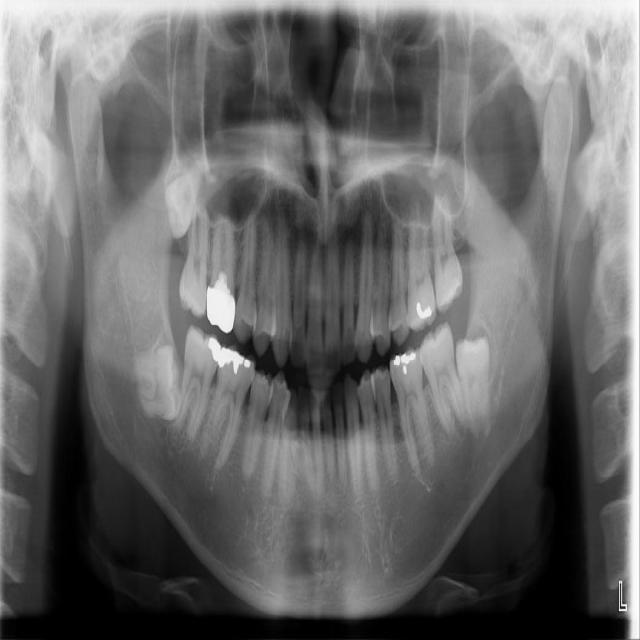Crown: (206, 278, 236, 333)
Filling: (206, 339, 254, 374), (391, 353, 417, 375), (415, 301, 435, 322)
Periapical lesion: (165, 424, 193, 448), (261, 212, 274, 238)
impacted tooth: (129, 346, 182, 420), (455, 335, 493, 432), (162, 153, 201, 239)
